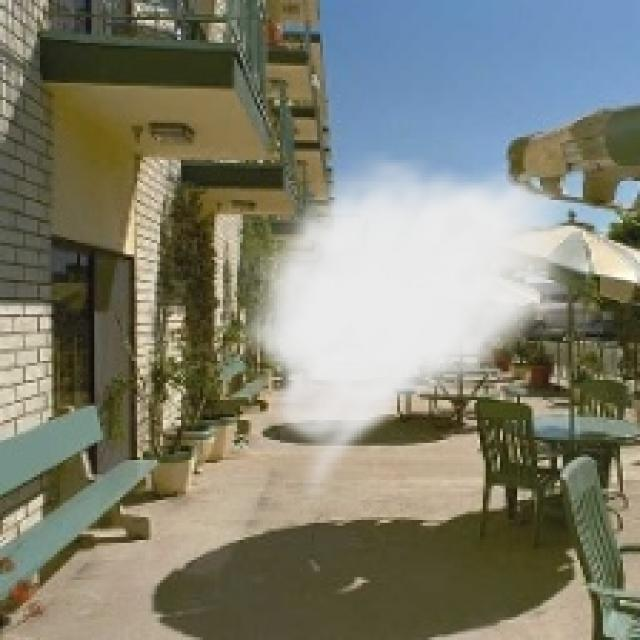smoke: (228, 148, 592, 512)
